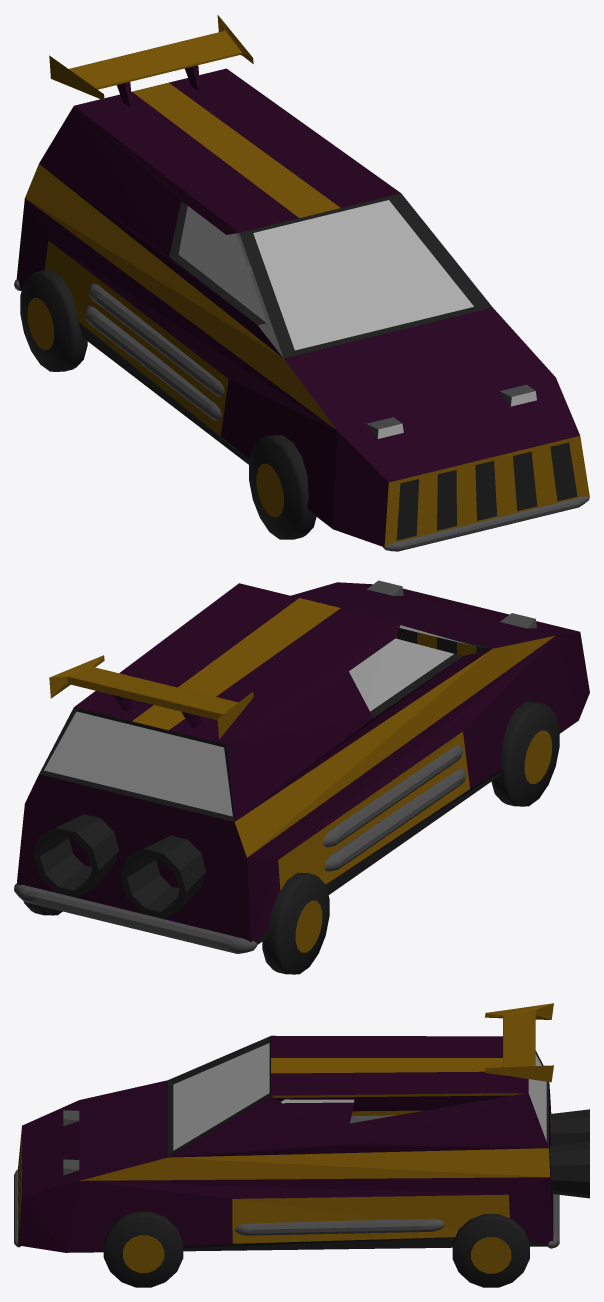
File: car1_pg.fbx
3 renders of one model, top to bottom at view 1: azimuth 30°, elevation 25°; view 2: azimuth 150°, elevation 25°; view 3: azimuth 270°, elevation 25°, orthographic. The views are drawn at different scales.
Parts seen in each view (by area): view 1: Car, Spoiler, FLW, RLW, pCylinder4, pCylinder3, pCylinder6; view 2: Car, FLW, Spoiler, RLW, Rthrust, Lthrust, pCylinder5, pCylinder4, pCylinder3; view 3: Car, FRW, RRW, Spoiler, pCylinder2, Lthrust, Rthrust, pCylinder5.
Boxes of the visible parts, x1,y1,x2,y2 form: Car: (16, 68, 589, 547); Spoiler: (49, 15, 253, 106); FLW: (249, 435, 316, 539); RLW: (20, 270, 87, 371); pCylinder4: (85, 306, 221, 420); pCylinder3: (89, 283, 224, 396); pCylinder6: (383, 496, 589, 551); Car: (16, 580, 589, 944); FLW: (491, 701, 559, 806); Spoiler: (49, 655, 253, 739); RLW: (262, 872, 329, 974); Rthrust: (120, 835, 206, 918); Lthrust: (33, 814, 119, 897); pCylinder5: (14, 884, 256, 953); pCylinder4: (324, 768, 465, 871); pCylinder3: (323, 744, 462, 847); Car: (18, 1035, 553, 1252); FRW: (103, 1211, 183, 1287); RRW: (452, 1214, 529, 1287); Spoiler: (485, 1003, 553, 1082); pCylinder2: (235, 1219, 444, 1235); Lthrust: (550, 1141, 589, 1198); Rthrust: (550, 1109, 589, 1145); pCylinder5: (547, 1194, 559, 1248).
Size of the model in its own units: 3.69 by 3.59 by 9.07.
